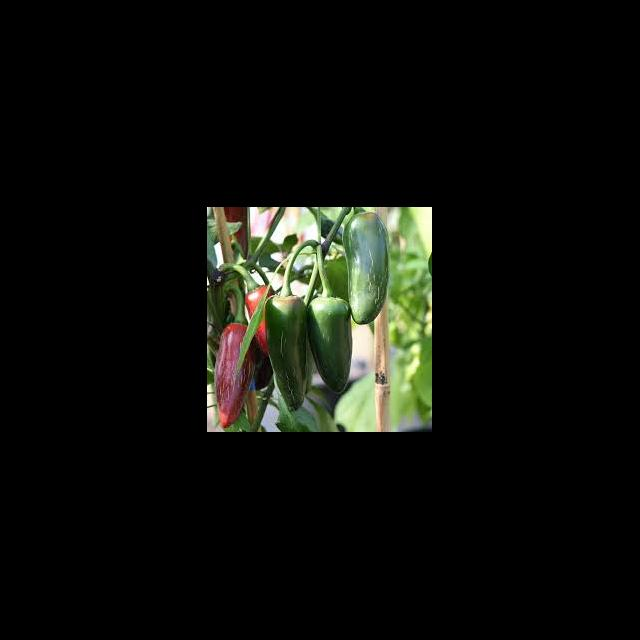chili_pepper: (342, 216, 390, 326), (264, 296, 308, 412), (306, 298, 352, 394), (216, 324, 256, 430)
